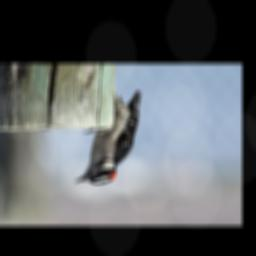Woodpecker: (73, 91, 143, 184)
